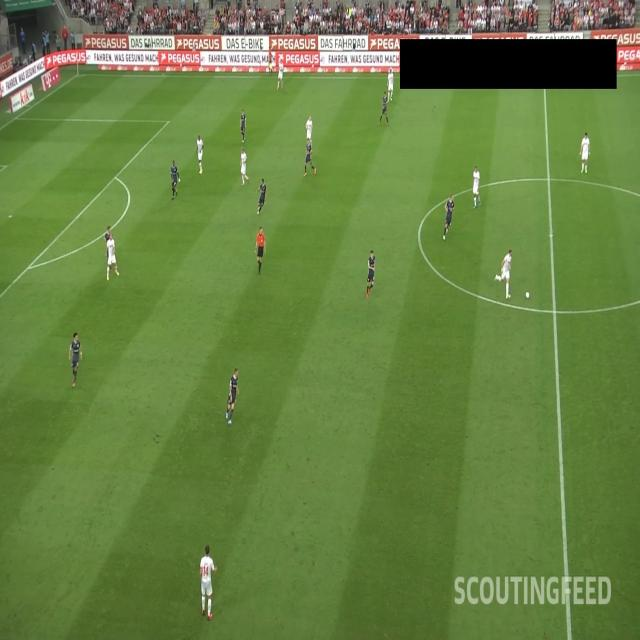ball: (525, 291, 530, 300)
